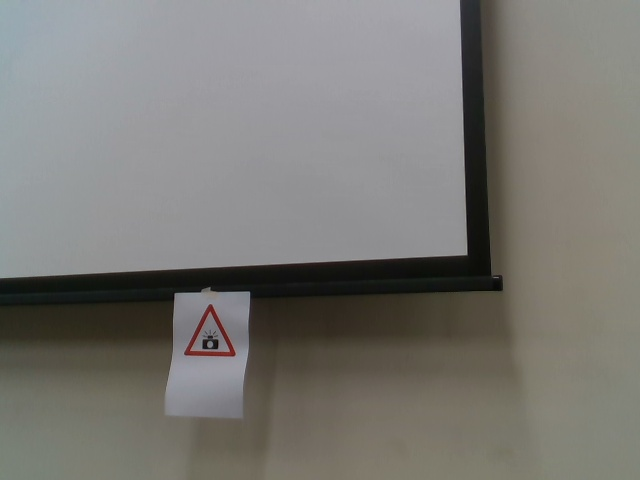camera: (181, 302, 235, 362)
